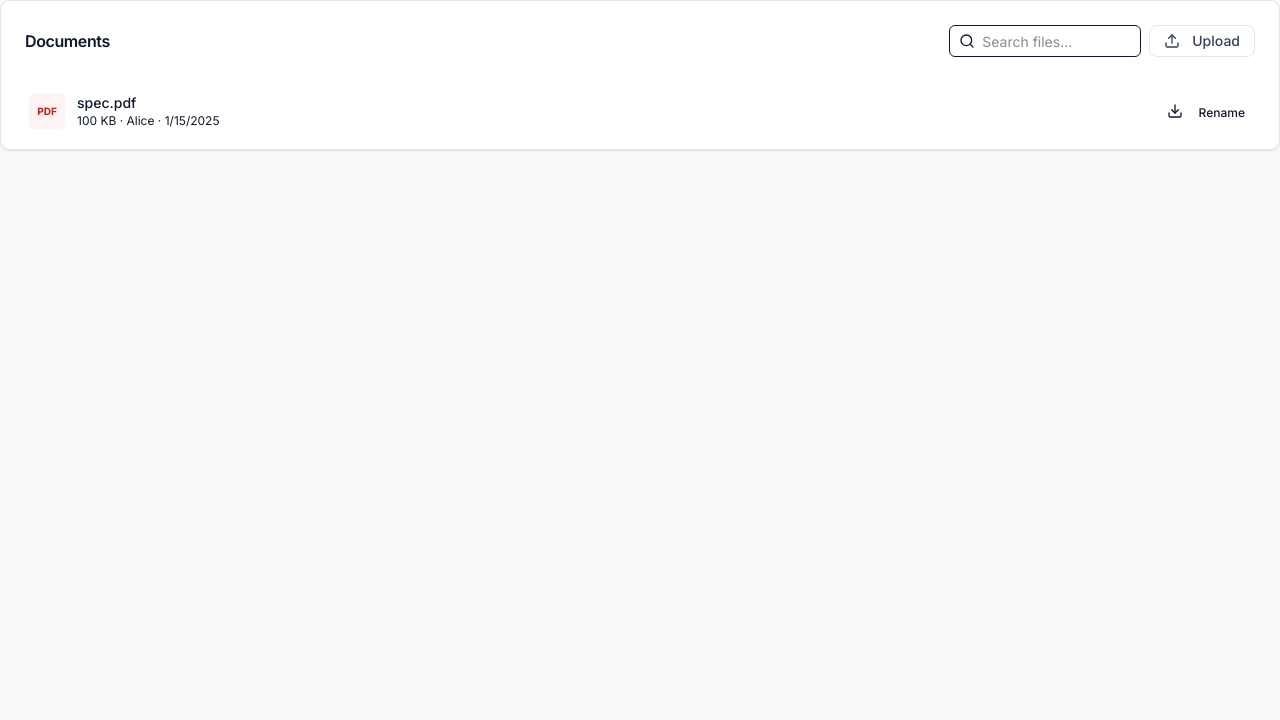
Scenario: DocumentManager › opens rename modal on rename click
The image size is (1280, 720).
Expected: the text "Rename" is shown, [1199,105,1245,120]
Click the button "Rename".
click(1222, 111)  # box [1193,93,1251,129]
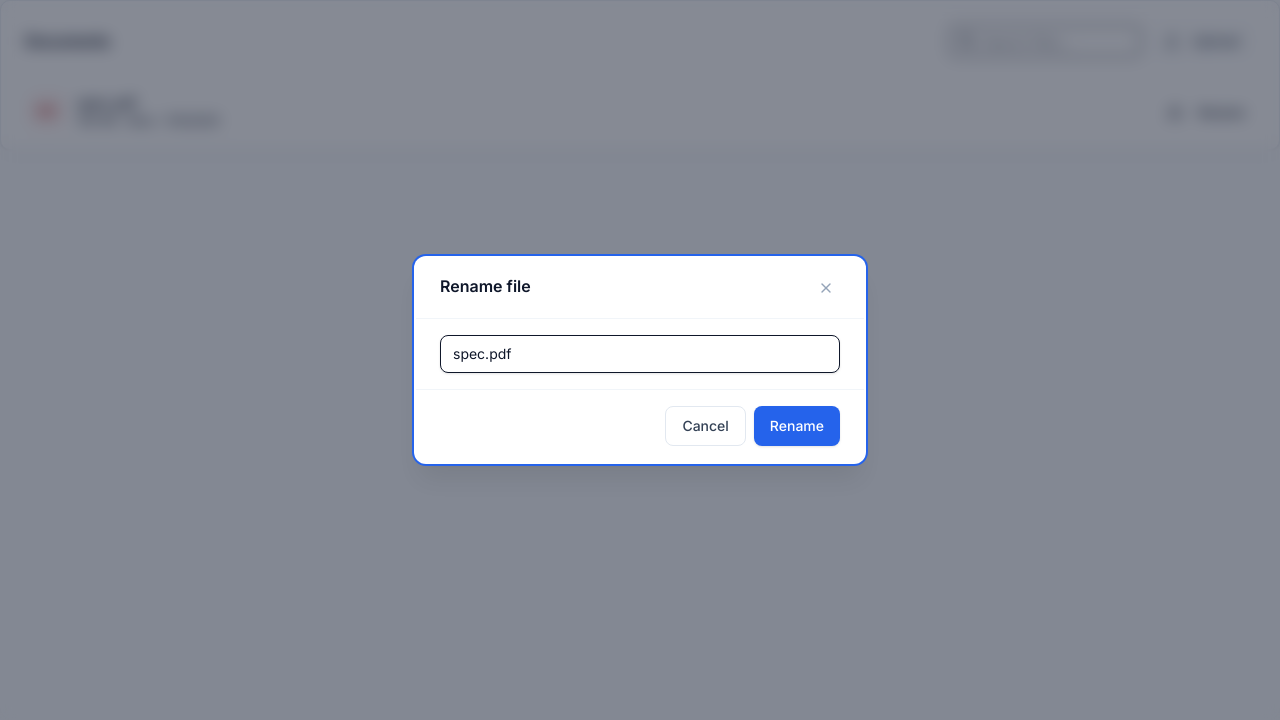
Now the heading "Rename file" is shown, box [440,274,531,298]
Now the field showing "spec.pdf" is shown, box [440,335,840,373]
